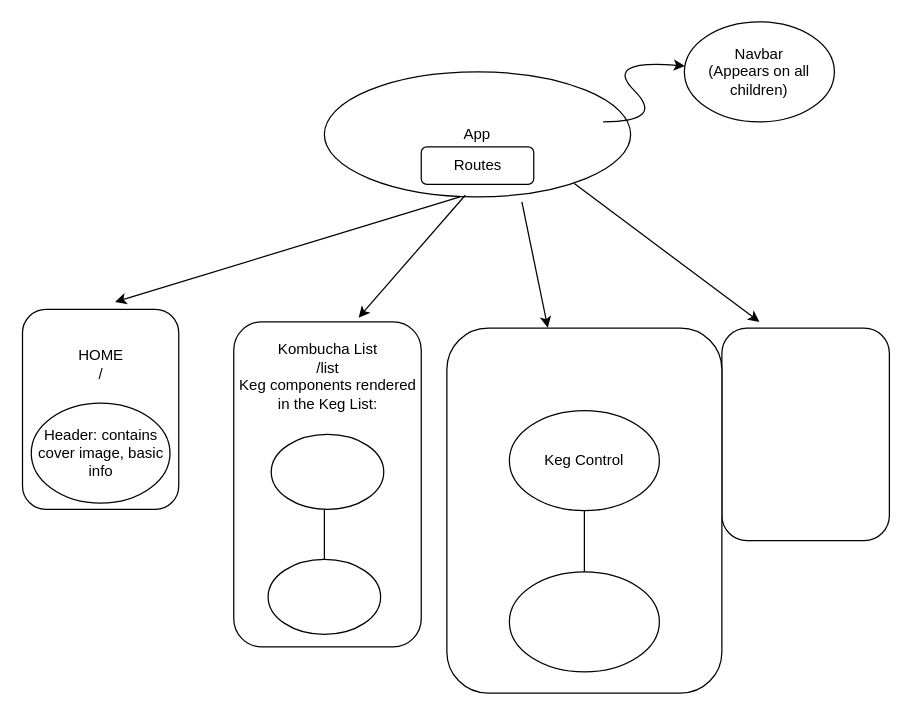
This 911x715 diagram has some shape labels left out. Each missing label, with the centre of its shape:
"Add Keg" goes at point 583,621.
"Keg" goes at point 324,596.
"KegList" goes at point 327,471.
"Order Form /order No other components besides navbar" goes at point 805,434.
